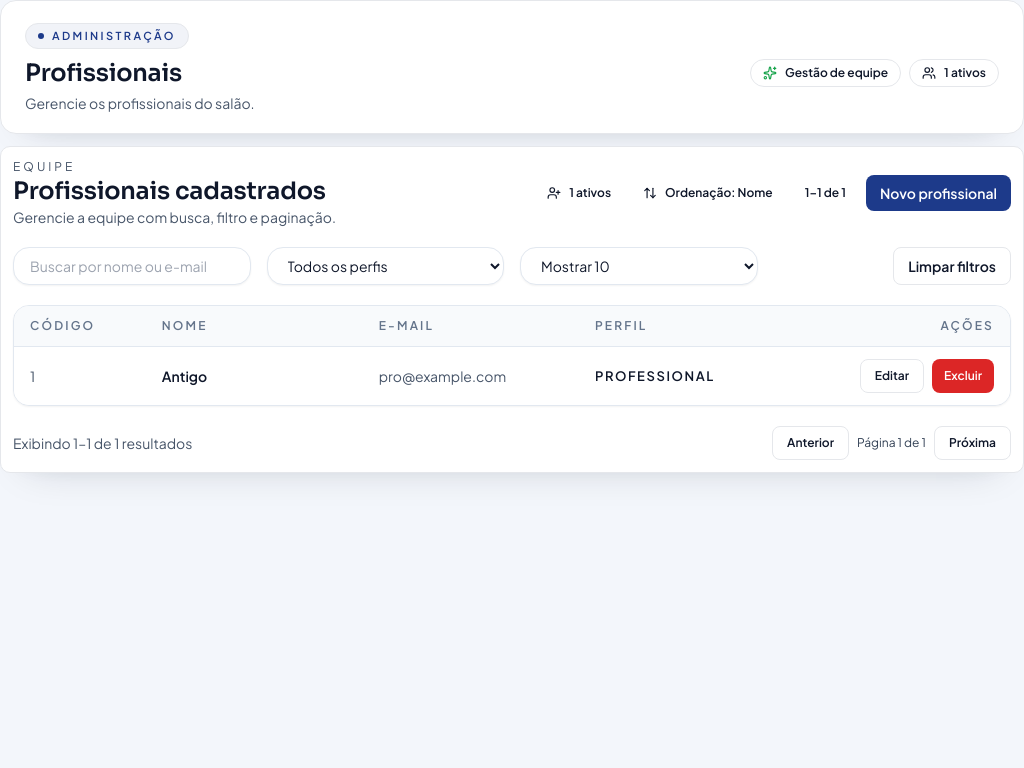
Test case: Profissionais › remove profissional após confirmação
Click the button "Excluir" at (963, 376), box [932,359,994,393]
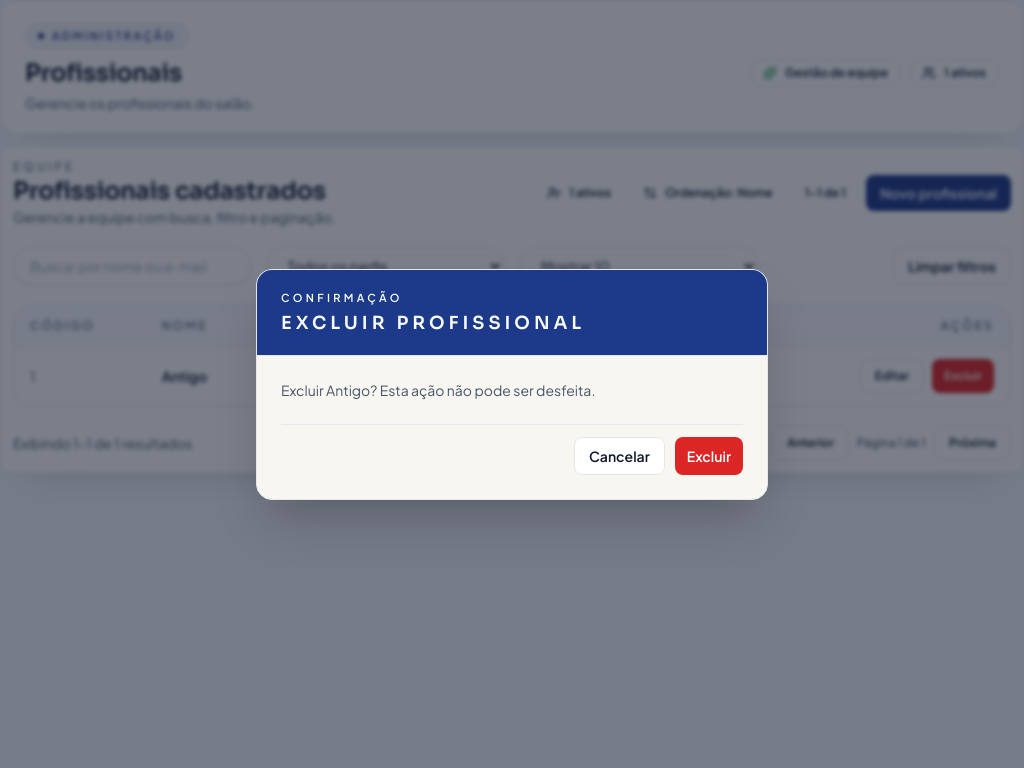
Now the heading "Excluir profissional" is shown, box [281,312,585,334]
Click the button "Excluir" at (709, 456), box [675,436,743,474]
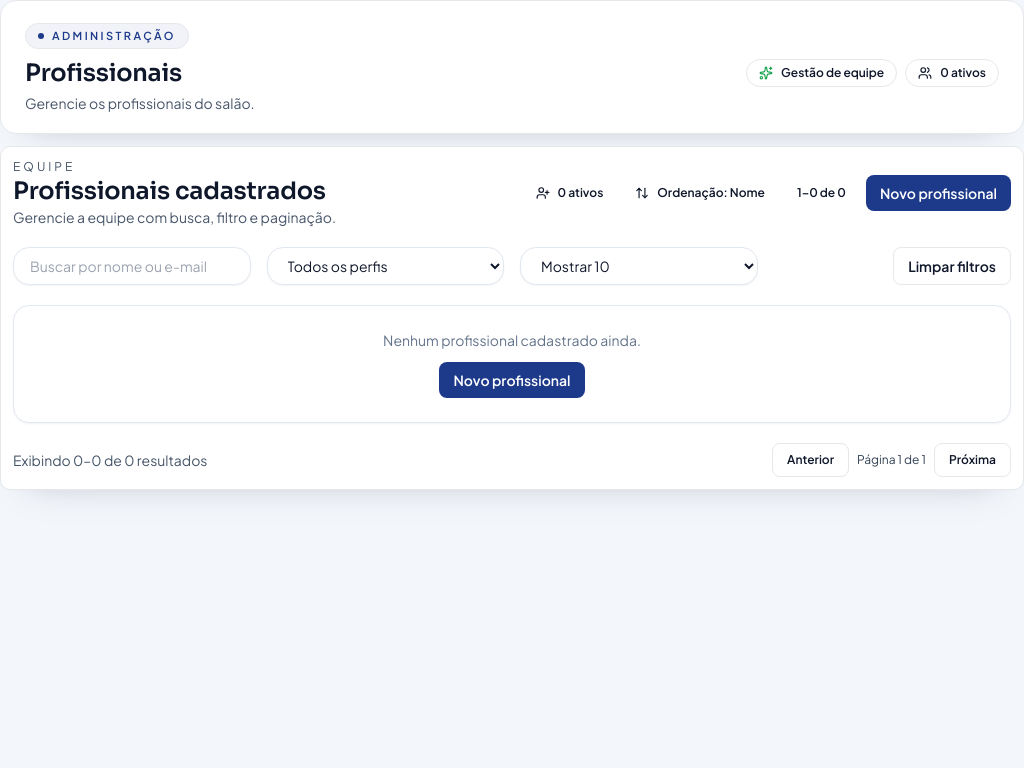
Now the text "Antigo" is gone
Now the text "Nenhum profissional cadastrado ainda." is shown, box [383,331,641,349]
